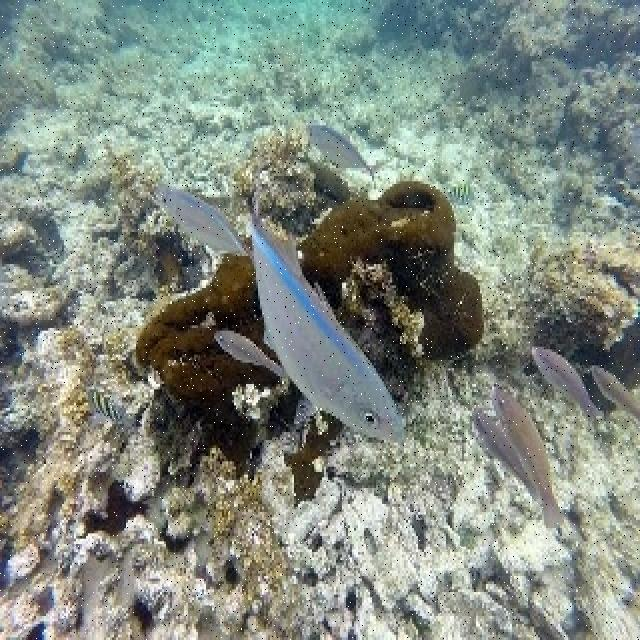fish: (238, 180, 407, 442), (490, 384, 564, 532), (528, 345, 608, 427), (305, 124, 399, 190), (471, 408, 537, 499), (163, 189, 252, 256), (215, 331, 286, 385), (591, 367, 638, 419)
reefs: (294, 181, 486, 363), (135, 256, 282, 398)
